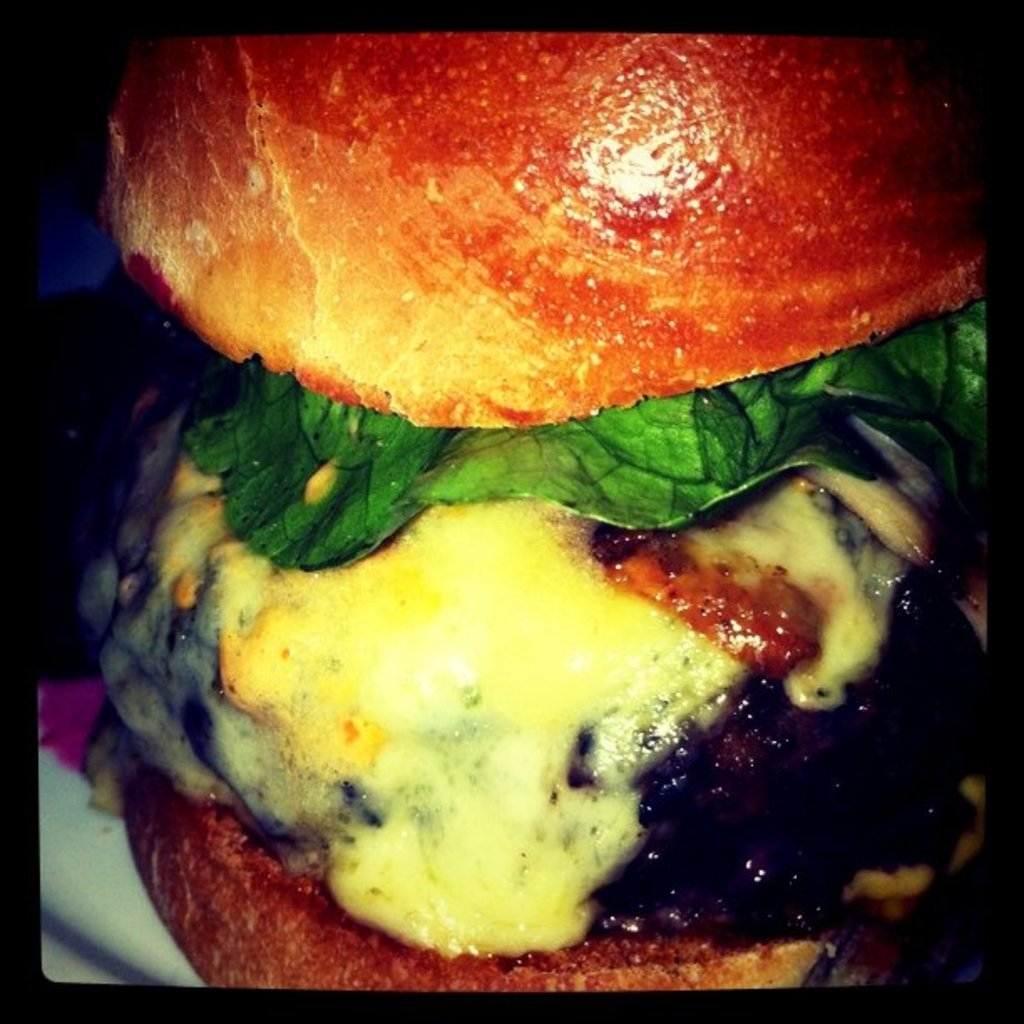Hamburger: (100, 31, 997, 993)
